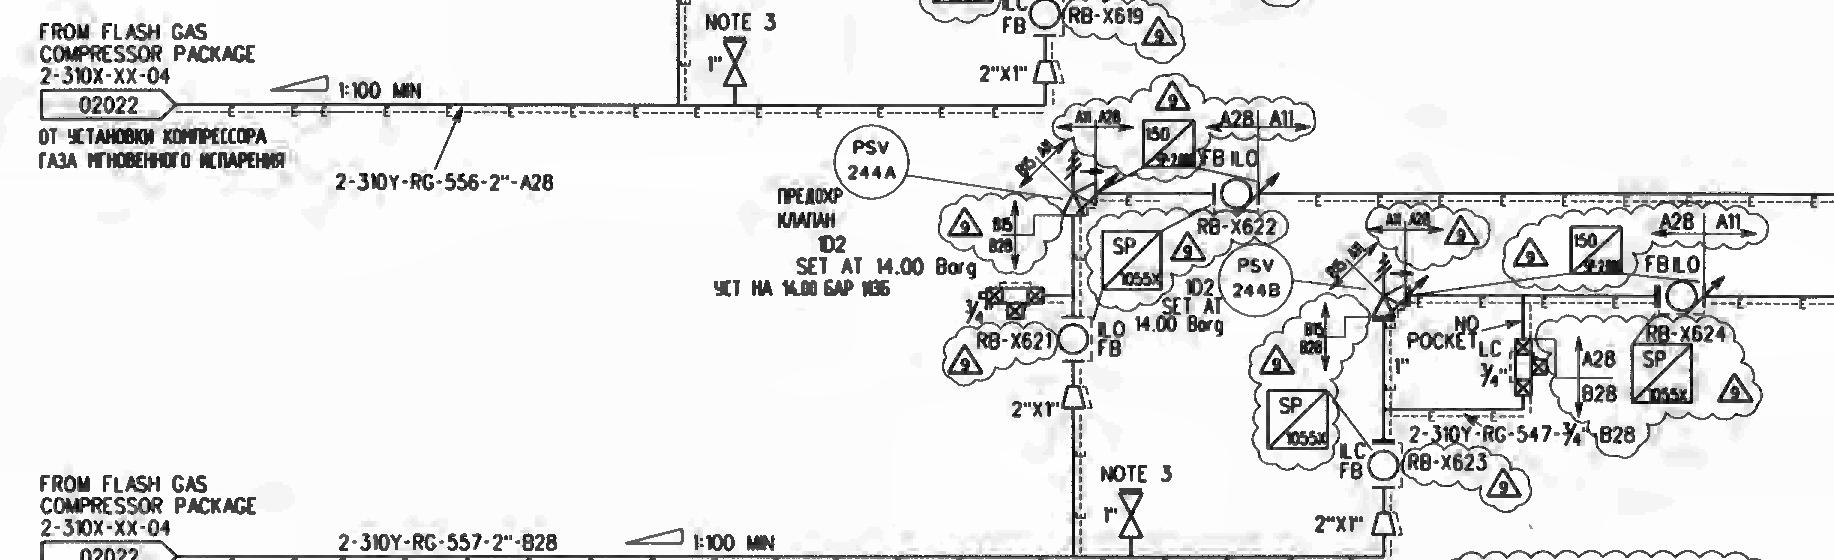2 WAY VALVE: (981, 278, 1050, 319)
ANGLE RELIEF VALVE: (1367, 247, 1419, 332), (1057, 140, 1102, 228), (1510, 333, 1554, 397)
CONCENTRIC REDUCER: (1055, 378, 1098, 423), (1033, 53, 1073, 94), (1367, 500, 1404, 545)
FIELD INSTRUMENT: (822, 118, 917, 209), (1216, 241, 1301, 319), (1662, 276, 1710, 314), (1219, 173, 1261, 210), (1365, 448, 1405, 484), (1053, 322, 1092, 358), (1027, 0, 1066, 32)
GATE VALVE: (712, 25, 763, 101), (1110, 483, 1150, 545)
REVISION TRIANGLE: (1477, 459, 1531, 511), (1138, 14, 1188, 55), (939, 205, 990, 241), (946, 343, 986, 387), (1718, 365, 1757, 410), (1257, 338, 1297, 381), (1511, 233, 1552, 269), (1443, 213, 1480, 253), (1157, 77, 1190, 115), (1168, 230, 1207, 261)
SPECIAL PIPING ITEM: (1618, 336, 1717, 413), (1257, 382, 1349, 459), (1554, 210, 1642, 288), (1095, 220, 1171, 305), (1128, 105, 1206, 178)
